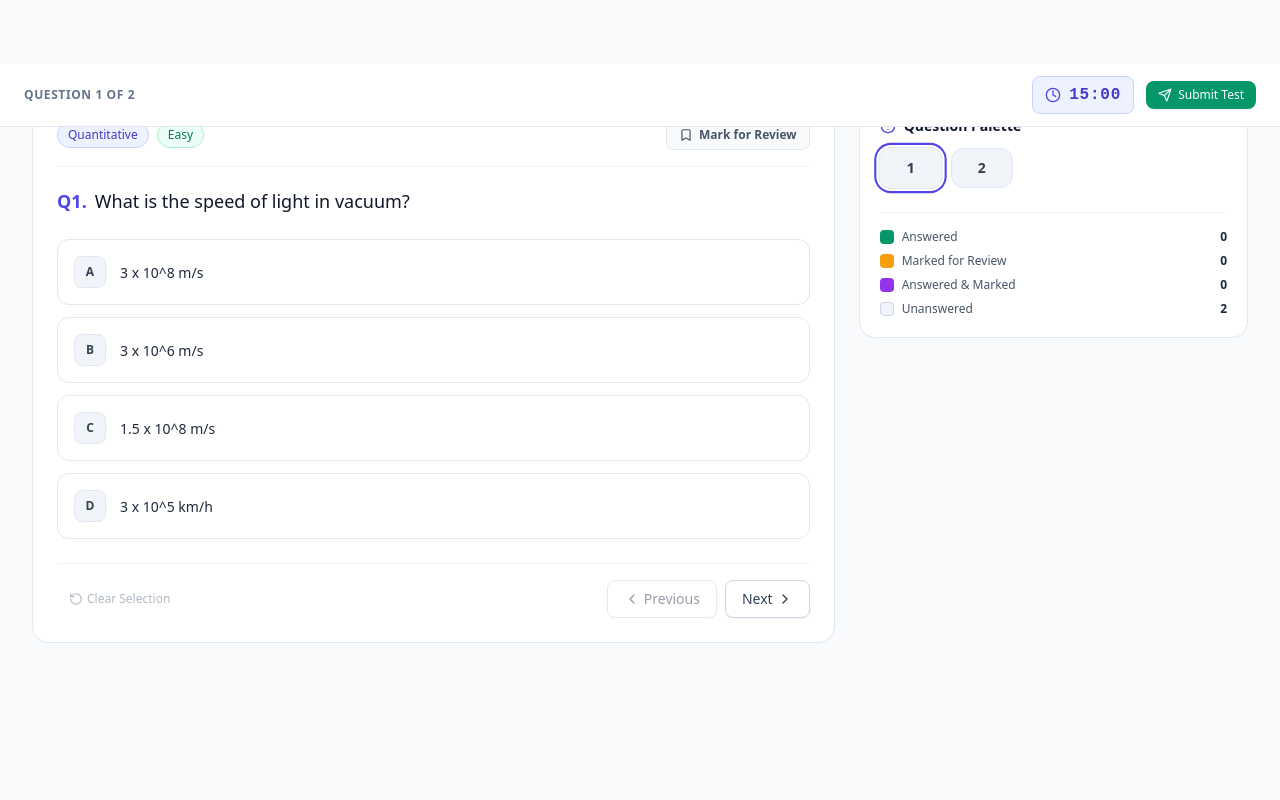
Test: Candidate Assessment UI Flow › Assessment Engine Reliability & Concurrency › stays on page and displays conflict error for non-finalized 409 conflict
Click the button "Submit Test": x=1201, y=95 left=1146, top=81, right=1256, bottom=109
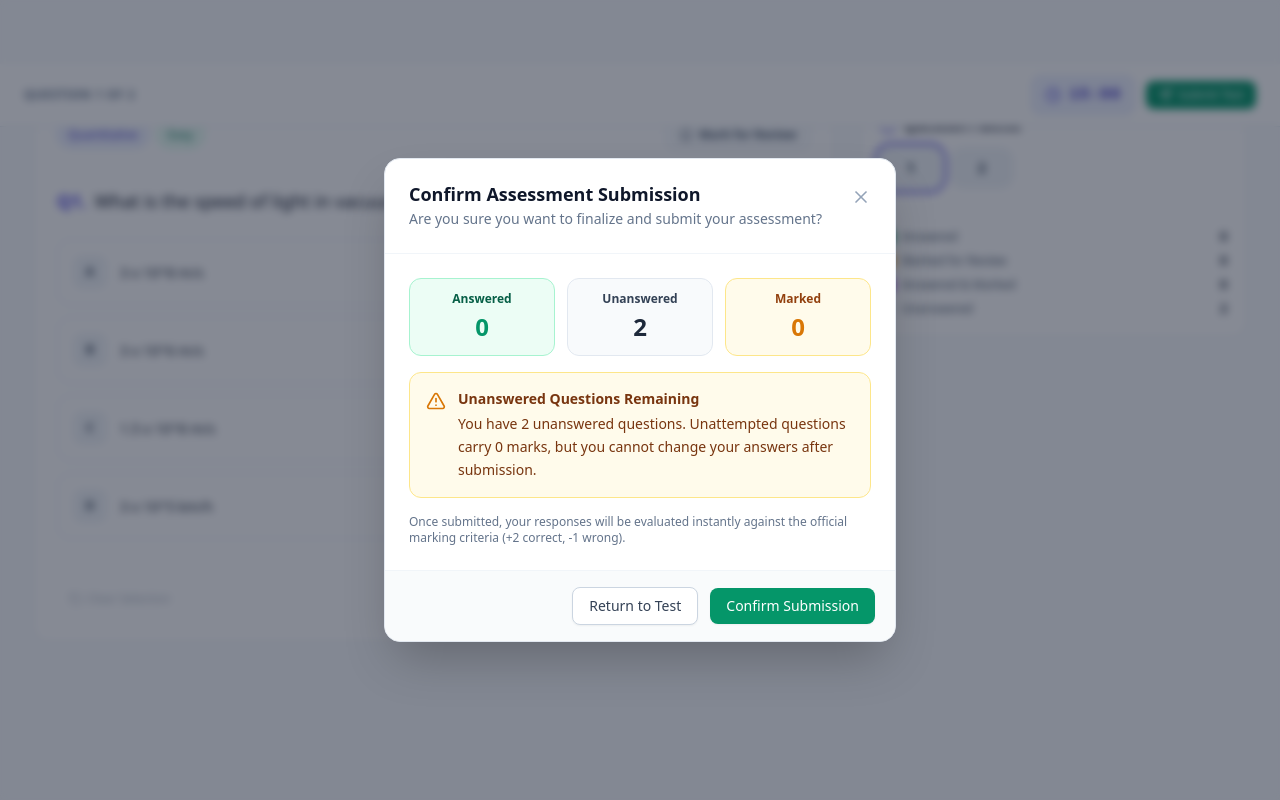
Click the button "Confirm Submission": x=793, y=606 left=710, top=588, right=875, bottom=624
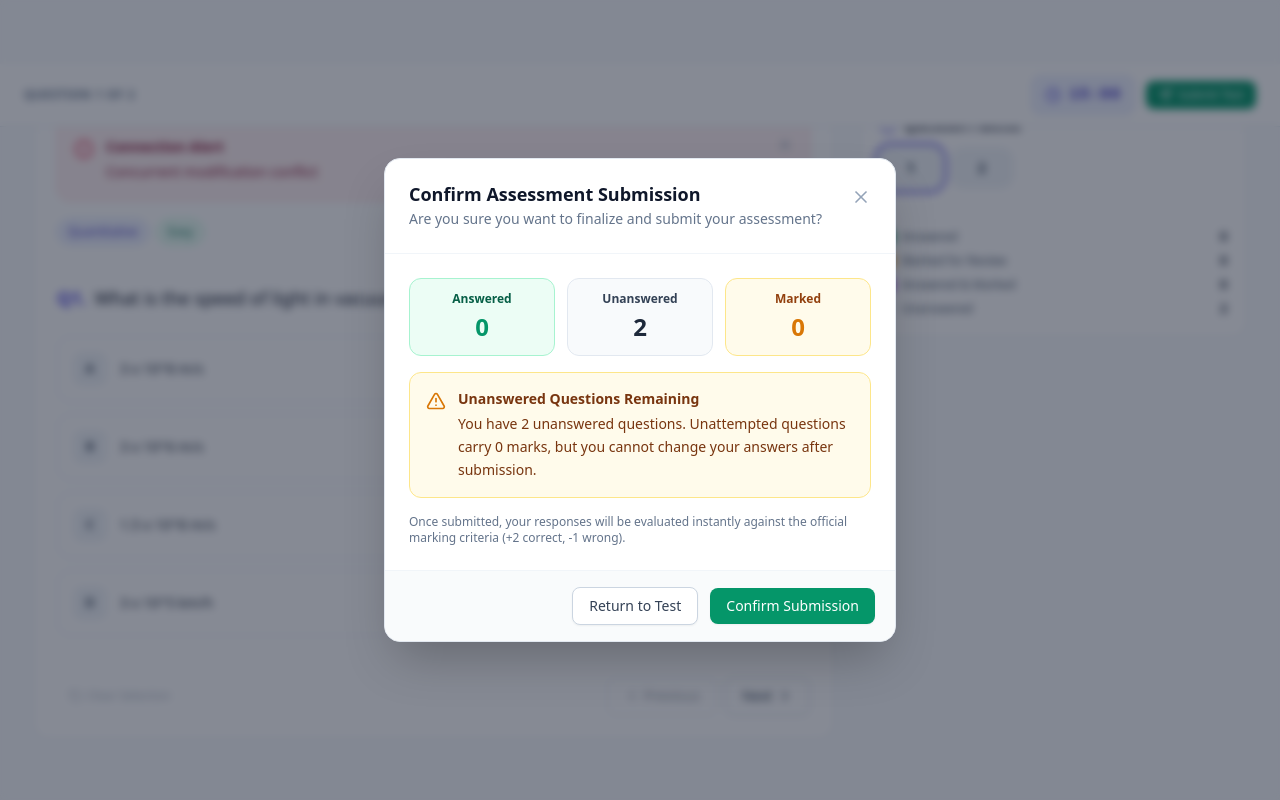
Result: the text "Concurrent modification conflict" is shown at left=106, top=162, right=318, bottom=181
